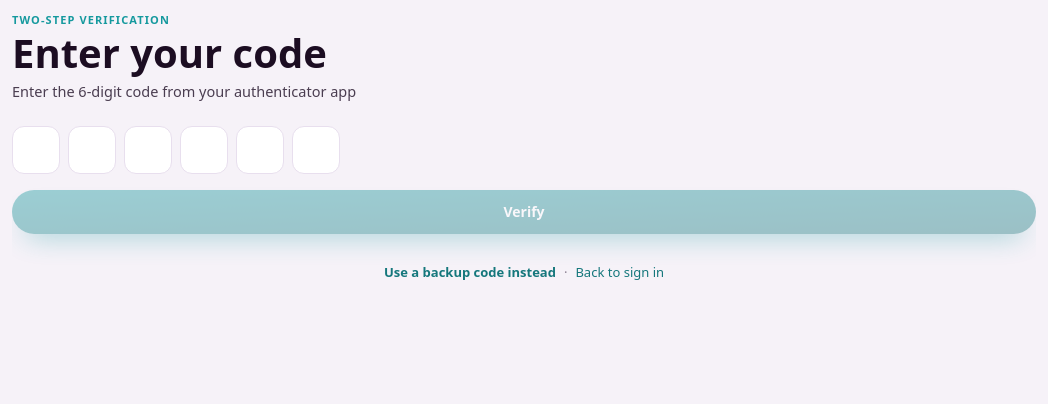
CodeForm › after a wrong backup code the focus is on the backup field
Click the button "Use a backup code instead" at (470, 272), box [384,250,556,294]
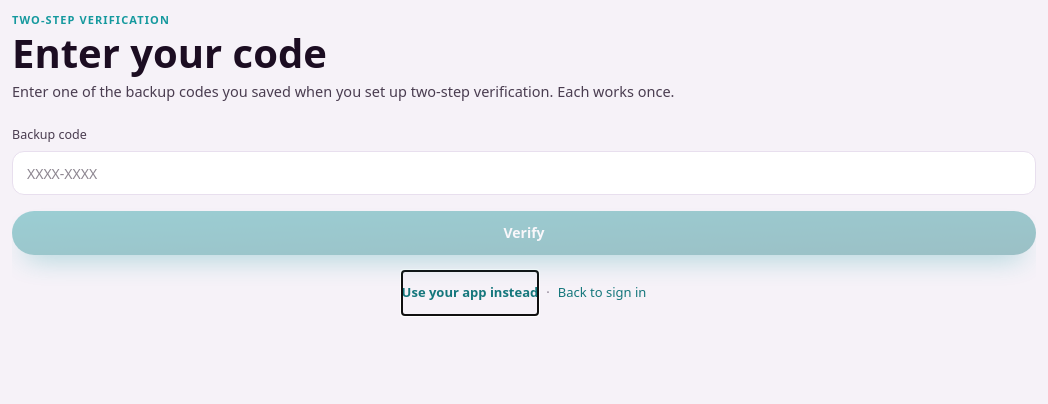
Type "AAAA-BBBB" into the field labelled "Backup code" at (524, 173), box [12,151,1036,195]
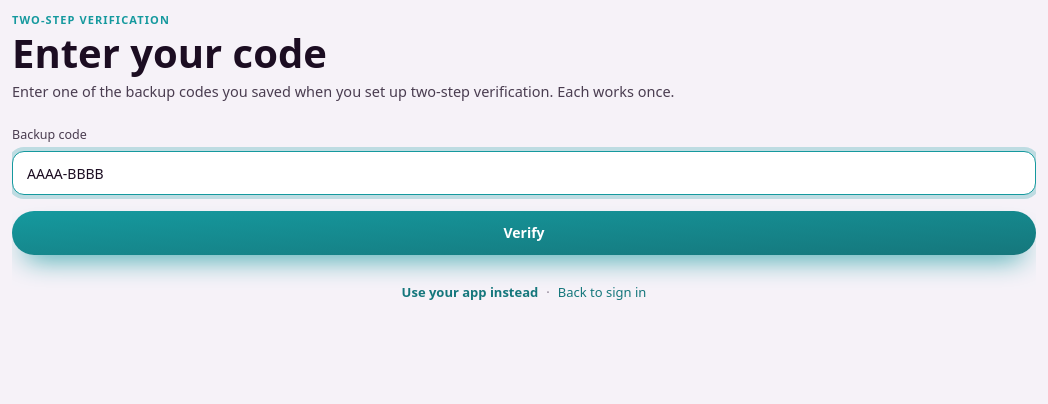
Click the button "Verify" at (524, 233), box [12,211,1036,255]
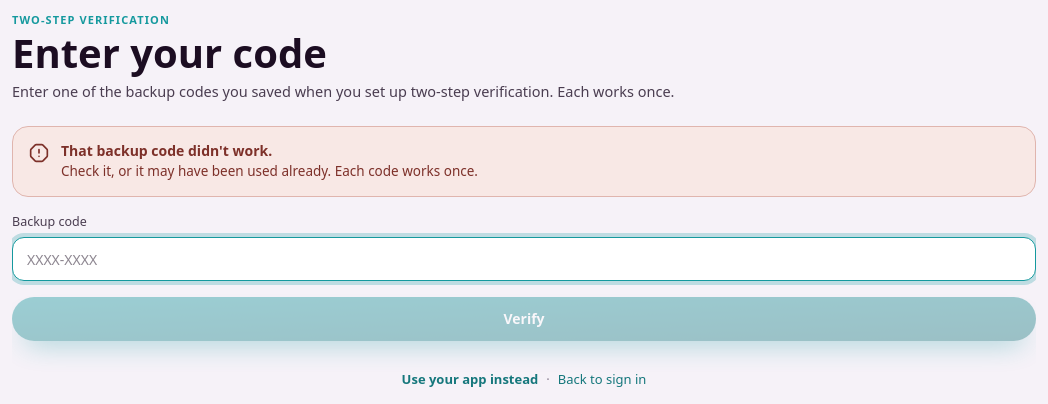
Expected: the message shows "That backup code didn't work.", [61,141,272,160]
Expected: the field labelled "Backup code" is empty, [12,237,1036,281]
